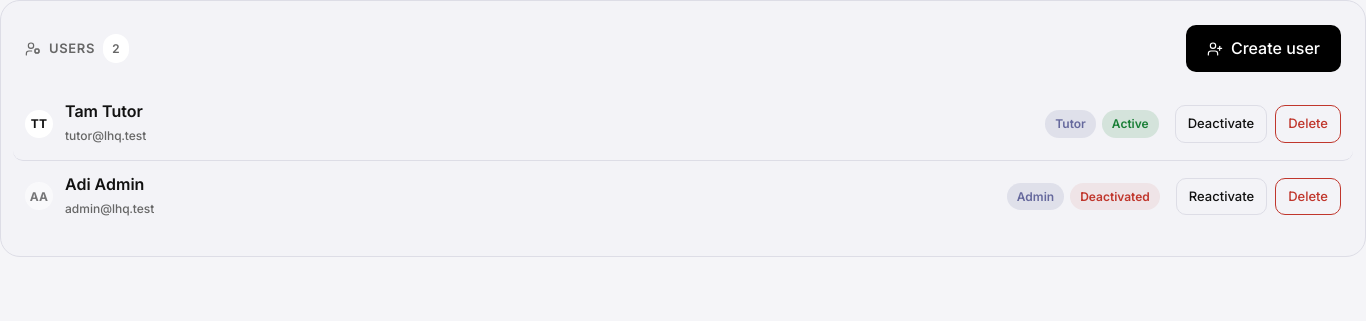
Scenario: UsersListPage row actions › shows an error and leaves the row alone if the update fails
Expected: the link "Tam Tutor" is shown, [65, 100, 146, 123]
Click the button "Deactivate": [1221, 124] box [1175, 105, 1267, 142]
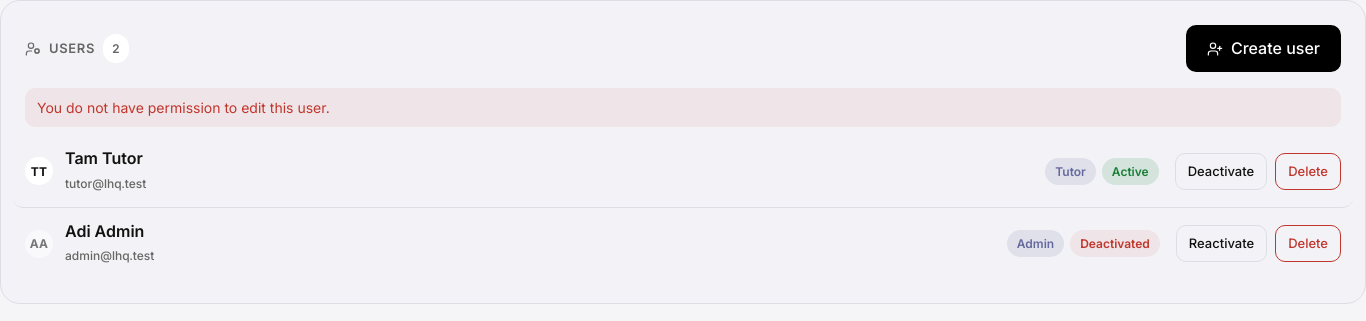
Expected: the text "You do not have permission to edit this user." is shown, [25, 88, 1341, 127]
